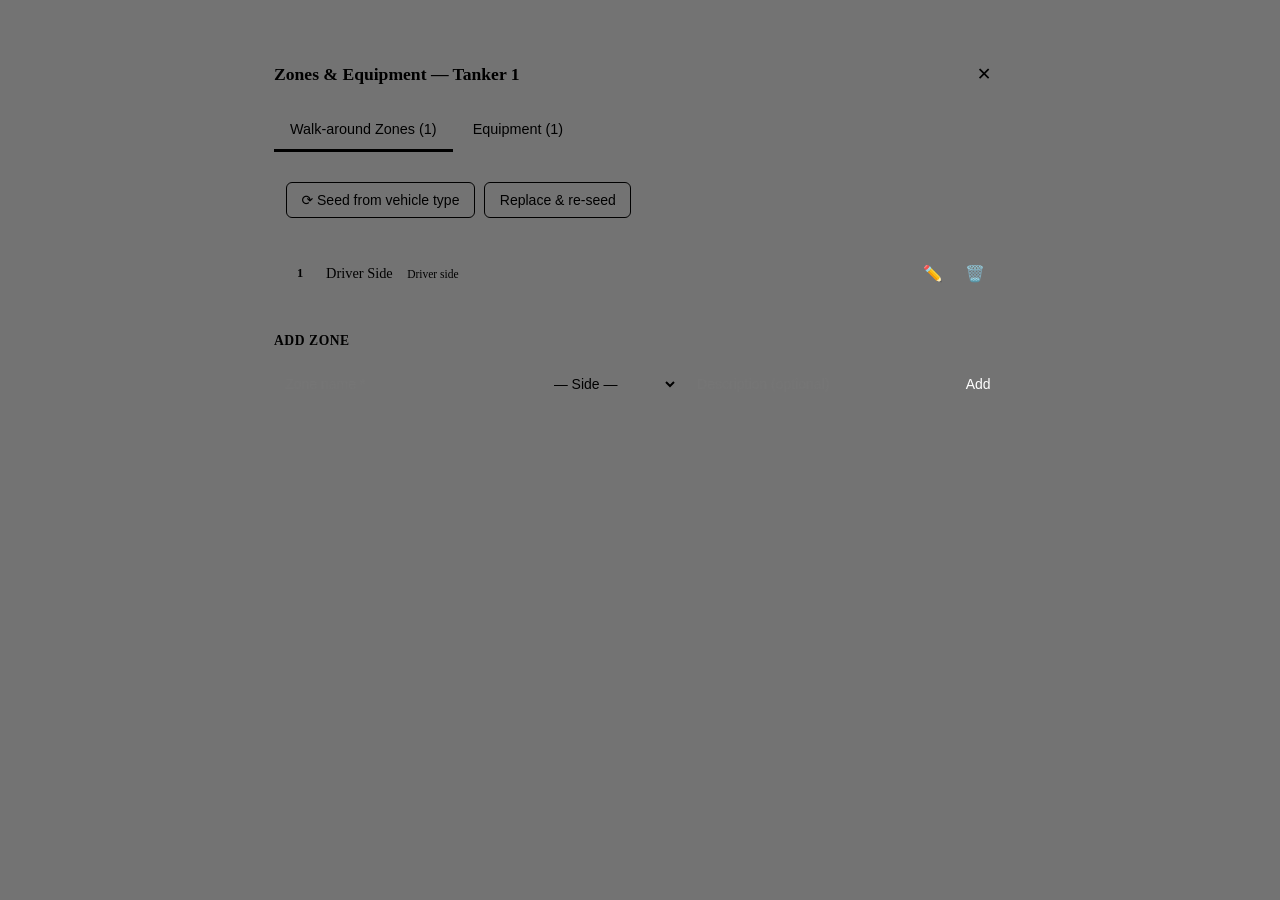
ApplianceZonesModal › switches to equipment tab on click
The image size is (1280, 900).
Click the tab "Equipment (1)": (518, 130) [457,108,579,152]
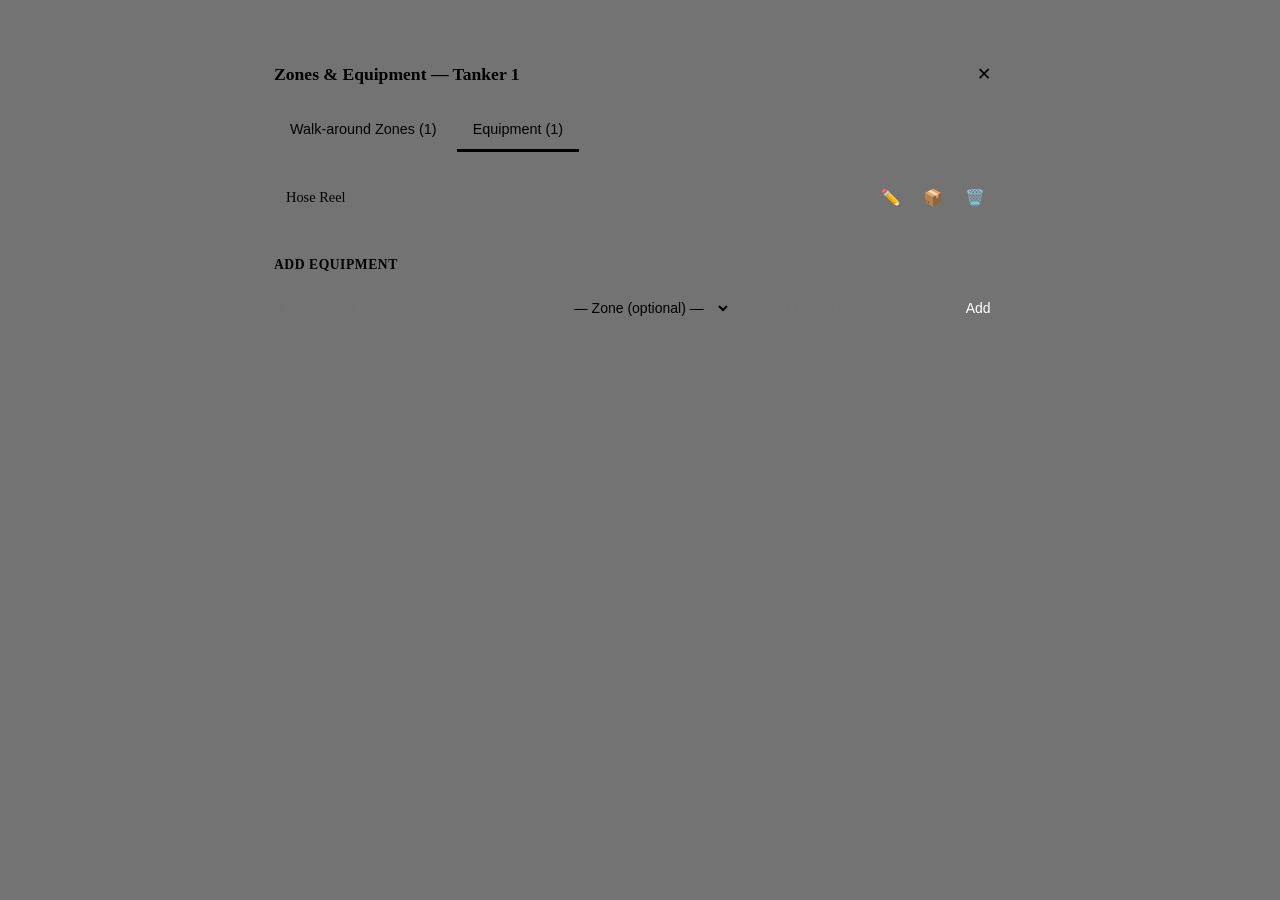
Result: the text "Hose Reel" is shown at [286,189,346,206]
